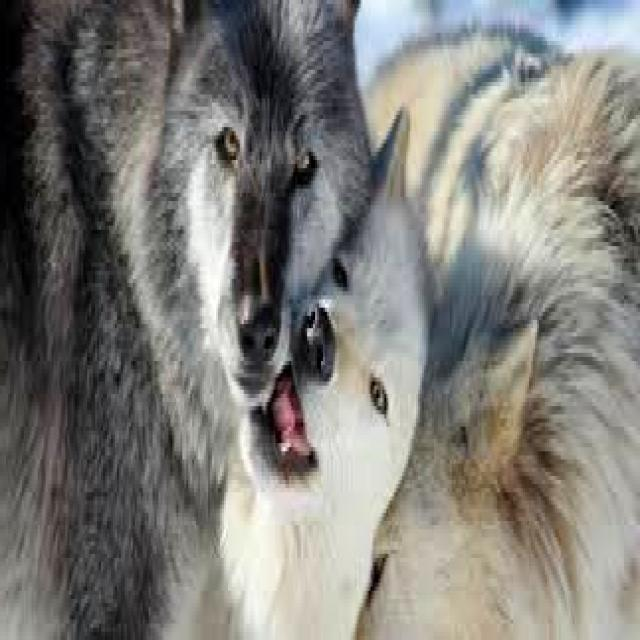wolf: (2, 0, 640, 636)
